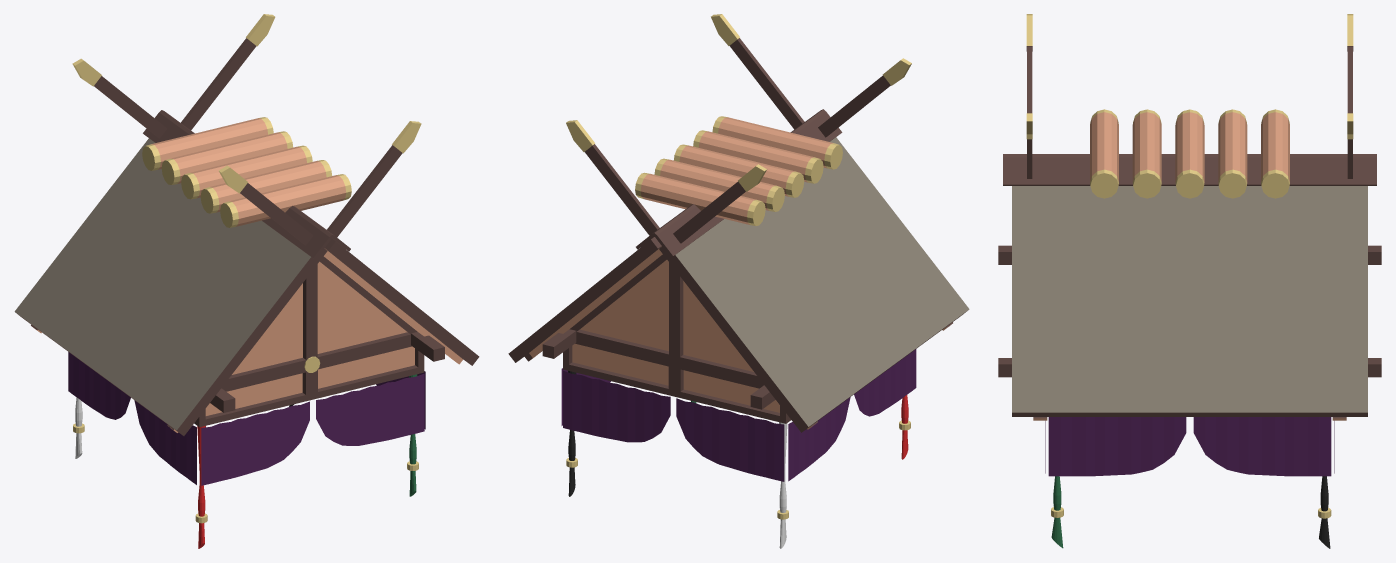
Rendered from dohyo roof.fbx.
3 views of the same model, side by side, from view 1: azimuth 30°, elevation 25°; view 2: azimuth 150°, elevation 25°; view 3: azimuth 270°, elevation 25° (orthographic). The views are drawn at different scales.
Visible parts, largest first — view 1: Plane, Circle, Plane.001, Plane.002, Circle.002; view 2: Plane, Circle, Plane.001, Plane.002, Circle.005; view 3: Plane, Plane.002, Circle, Circle.004, Circle.003.
Part boxes in pixels (x1,y1,x2,y2): Plane: [14, 14, 479, 435]; Circle: [142, 117, 351, 227]; Plane.001: [201, 373, 424, 485]; Plane.002: [68, 352, 425, 484]; Circle.002: [195, 426, 207, 548]; Plane: [508, 14, 969, 432]; Circle: [635, 116, 842, 225]; Plane.001: [563, 370, 784, 481]; Plane.002: [561, 349, 916, 481]; Circle.005: [777, 422, 788, 548]; Plane: [998, 14, 1381, 420]; Plane.002: [1048, 417, 1331, 476]; Circle: [1090, 109, 1289, 198]; Circle.004: [1318, 476, 1331, 548]; Circle.003: [1051, 476, 1063, 548].
Size of the model in its own units: 269 by 331 by 269.
